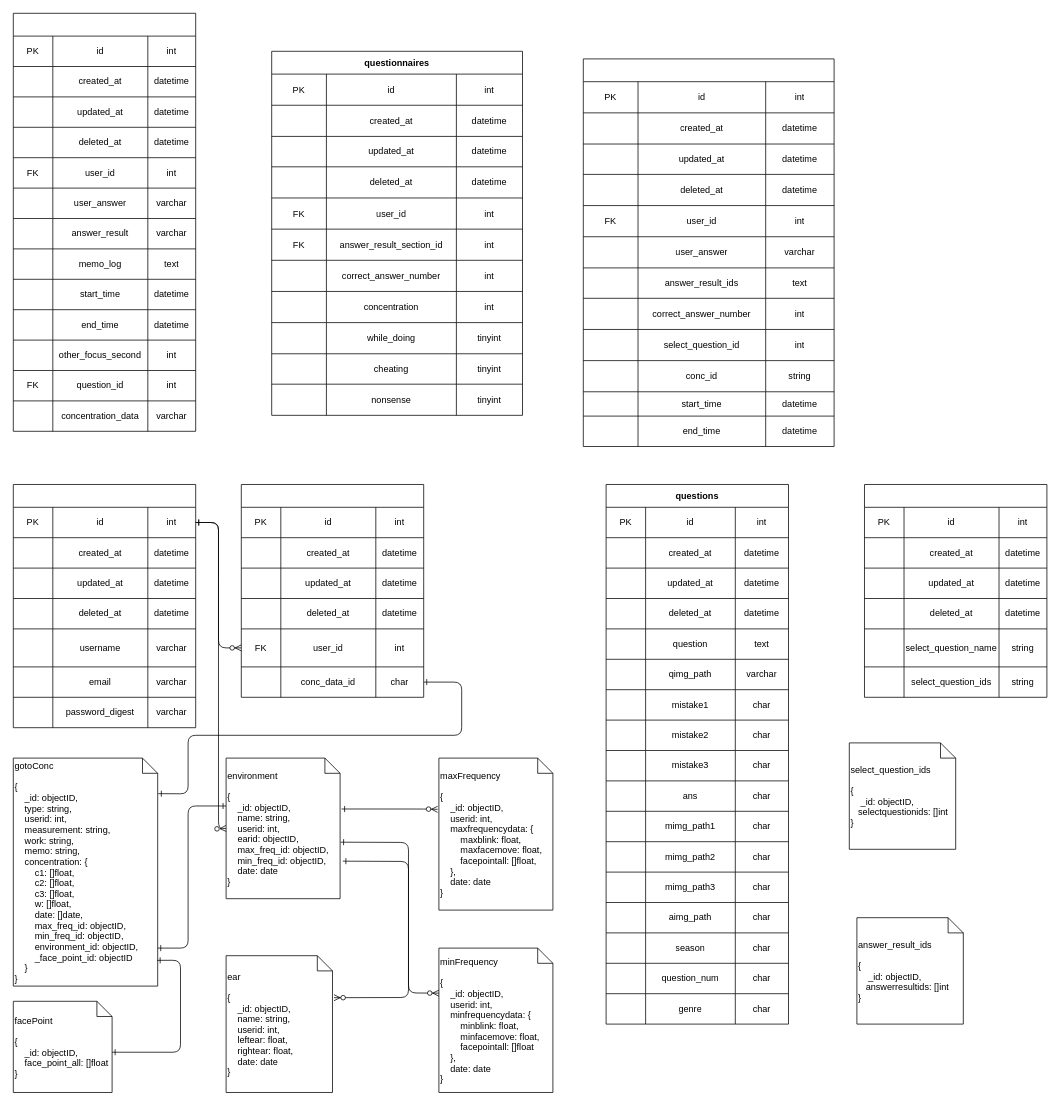
The diagram is 1060 pixels wide and 1106 high, and some of its shapes have lost their labels. The box of each missing label's shape, as (x1, y1, x2, y2) in pixels:
answer_result_sections: (583, 58, 834, 446)
answer_results: (13, 13, 196, 431)
get_id_log: (241, 484, 424, 697)
select_questions: (864, 484, 1047, 697)
users: (13, 484, 196, 728)
